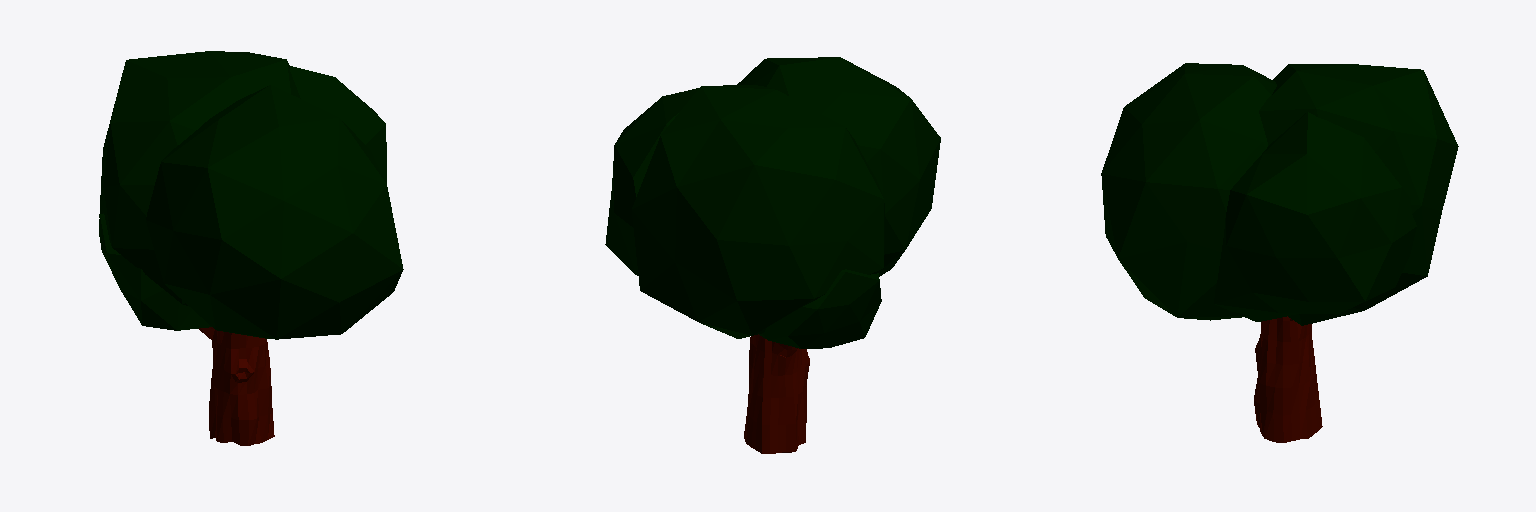
Rendered from oak.obj.
3 renders of one model, left to right at view 1: azimuth 30°, elevation 25°; view 2: azimuth 150°, elevation 25°; view 3: azimuth 270°, elevation 25°, orthographic.
Visible parts, largest first — view 1: Icosphere, Cylinder; view 2: Icosphere, Cylinder; view 3: Icosphere, Cylinder.
Part boxes in pixels (left/top/right/bottom): Icosphere: left=99, top=51, right=403, bottom=339; Cylinder: left=199, top=327, right=274, bottom=445; Icosphere: left=605, top=57, right=940, bottom=348; Cylinder: left=744, top=334, right=809, bottom=453; Icosphere: left=1101, top=63, right=1458, bottom=325; Cylinder: left=1254, top=316, right=1322, bottom=442.
Size of the model in its own units: 16.5 by 21.82 by 19.57.